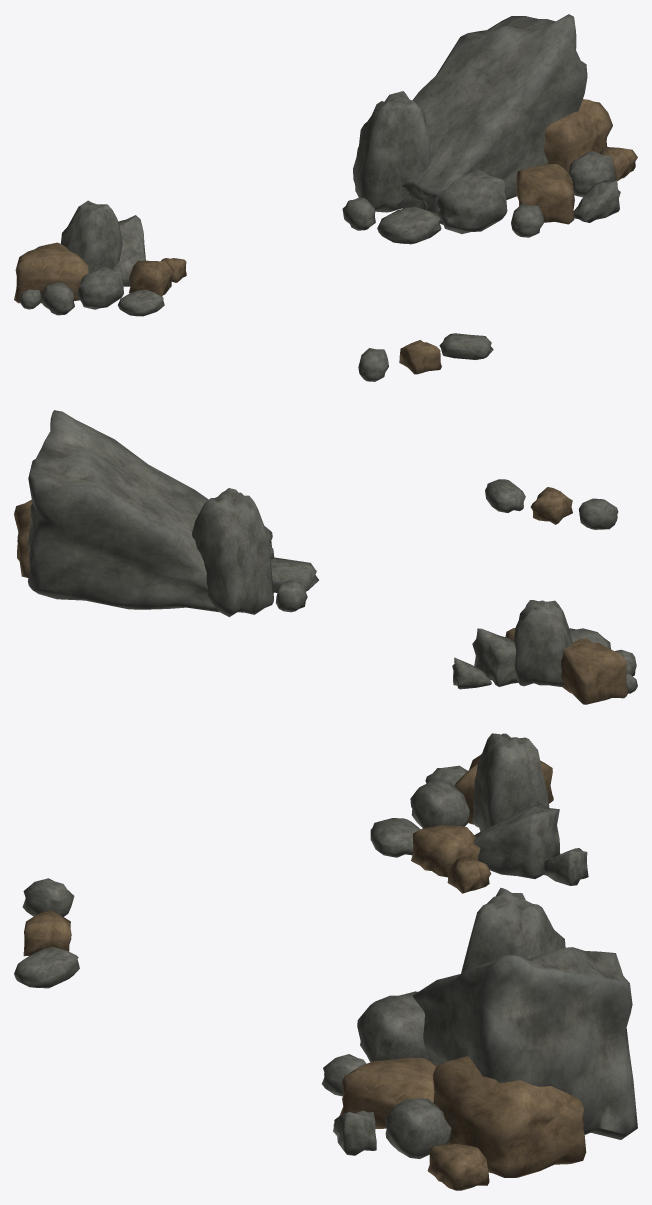
File: rock_clusters_20_21.glb
3 renders of one model, top to bottom at view 1: azimuth 30°, elevation 25°; view 2: azimuth 150°, elevation 25°; view 3: azimuth 270°, elevation 25°, orthographic. The views are drawn at different scales.
Parts seen in each view (by area): view 1: Rock_21, Rock_20, Pebble_03, Pebble_02, Pebble_01; view 2: Rock_21, Rock_20, Pebble_02, Pebble_03, Pebble_01; view 3: Rock_21, Rock_20, Pebble_03, Pebble_02, Pebble_01.
Boxes of the visible parts, <box> form: Rock_21: <box>342,14,637,244</box>; Rock_20: <box>14,200,186,316</box>; Pebble_03: <box>439,333,493,359</box>; Pebble_02: <box>399,340,441,374</box>; Pebble_01: <box>358,348,388,381</box>; Rock_21: <box>14,410,318,617</box>; Rock_20: <box>452,600,637,704</box>; Pebble_02: <box>530,487,572,524</box>; Pebble_03: <box>485,479,525,512</box>; Pebble_01: <box>578,498,618,529</box>; Rock_21: <box>322,887,637,1190</box>; Rock_20: <box>370,733,588,893</box>; Pebble_03: <box>14,947,79,988</box>; Pebble_02: <box>23,910,71,956</box>; Pebble_01: <box>22,878,74,916</box>.
Size of the model in its own units: 8.54 by 2.02 by 5.54.
1 material, 1 textured.
